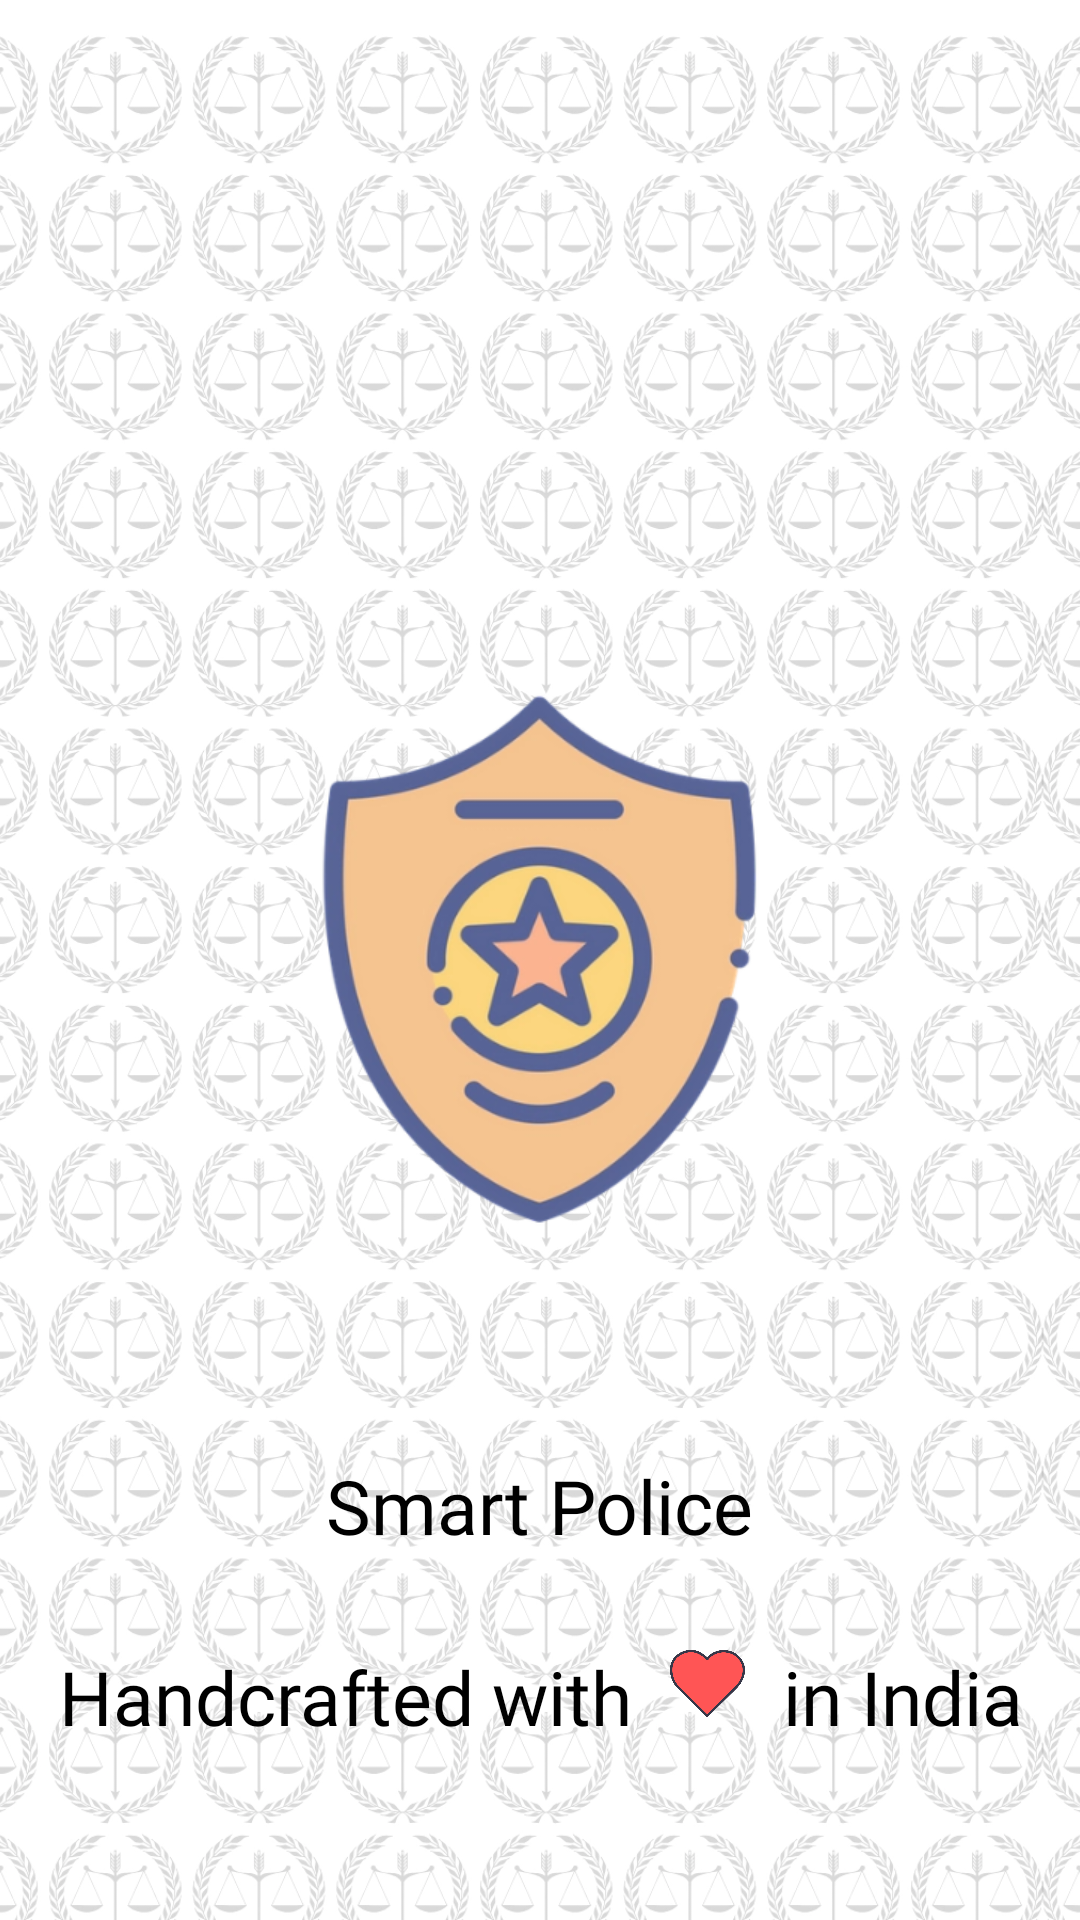

Screen size 1080 × 1920. Icon name, then its box in pixels as (x1, y1, x2, y2):
love: (670, 1646, 745, 1721)
